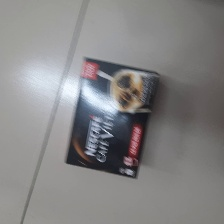CF Viet: (59, 55, 160, 180)
